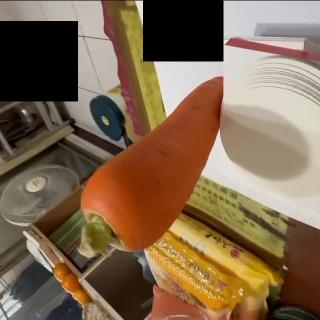carrot: (78, 76, 228, 257)
